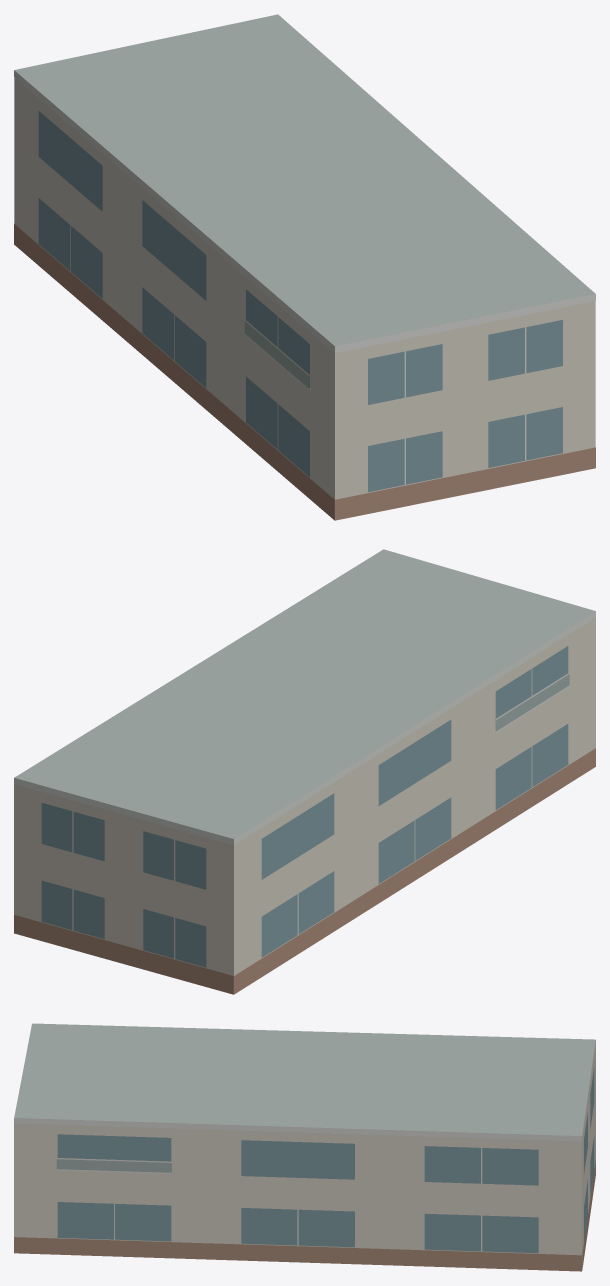
The model's file is survey-upis-32768826.glb.
The picture shows the model from 3 angles, top to bottom: view 1: azimuth 30°, elevation 25°; view 2: azimuth 150°, elevation 25°; view 3: azimuth 270°, elevation 25°; orthographic projection. The views are drawn at different scales.
Visible parts, largest first — view 1: survey-upis-32768826.tmp; view 2: survey-upis-32768826.tmp; view 3: survey-upis-32768826.tmp.
Boxes of the visible parts, bbox=[...] form: survey-upis-32768826.tmp: bbox=[14, 14, 595, 520]; survey-upis-32768826.tmp: bbox=[14, 549, 595, 994]; survey-upis-32768826.tmp: bbox=[14, 1023, 595, 1271].
Bounding box in the file's own units: 10.9 × 6.1 × 23.77.
